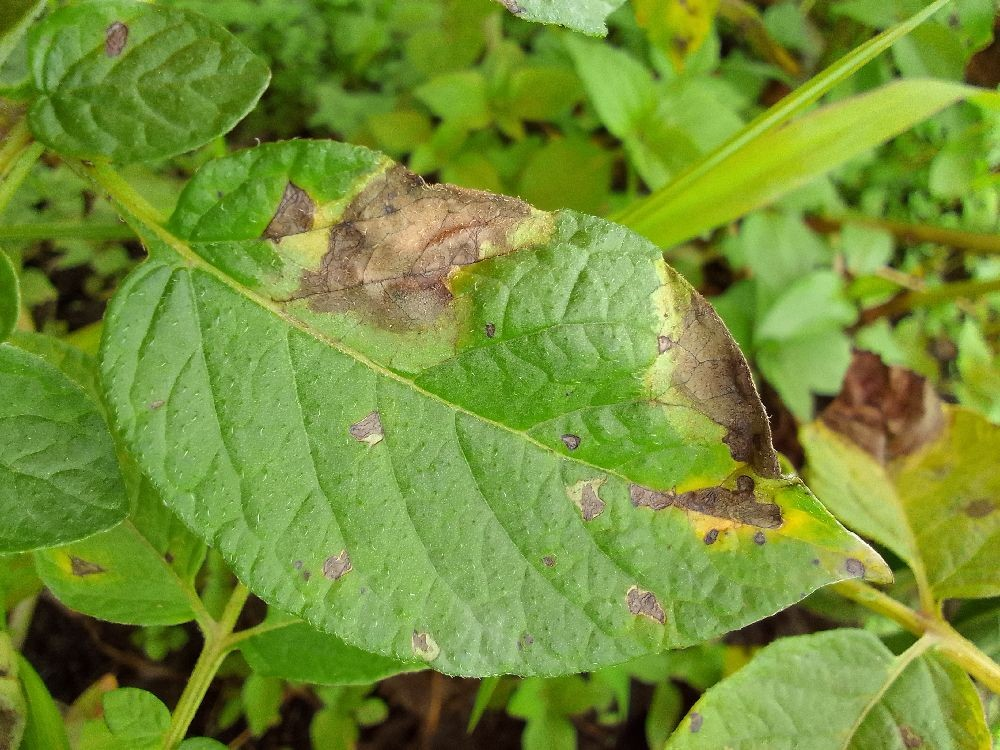late_blight: (614, 198, 999, 562), (228, 124, 564, 363), (316, 646, 549, 750), (4, 220, 163, 355)
